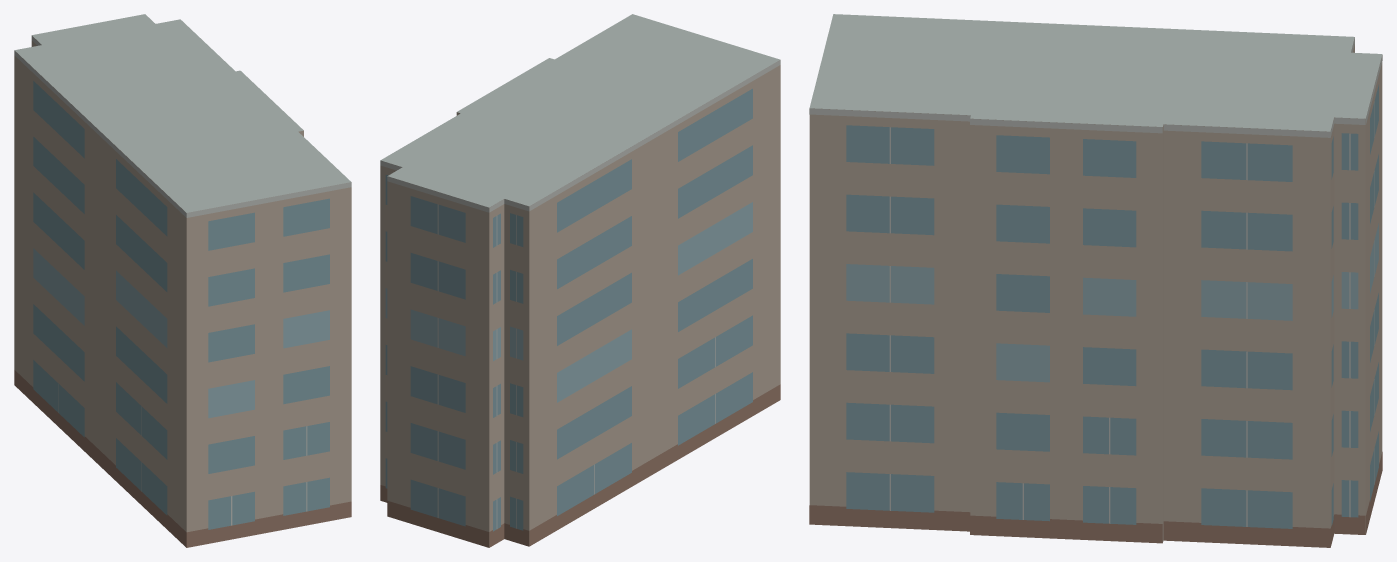
File: survey-upis-32567222.glb
The picture shows the model from 3 angles, left to right: view 1: azimuth 30°, elevation 25°; view 2: azimuth 150°, elevation 25°; view 3: azimuth 270°, elevation 25°; orthographic projection. The views are drawn at different scales.
Parts seen in each view (by area): view 1: survey-upis-32567222.tmp; view 2: survey-upis-32567222.tmp; view 3: survey-upis-32567222.tmp.
Boxes of the visible parts, x1=… form: survey-upis-32567222.tmp: x1=14, y1=14, x2=351, y2=547; survey-upis-32567222.tmp: x1=380, y1=14, x2=780, y2=547; survey-upis-32567222.tmp: x1=809, y1=14, x2=1382, y2=547.
Bounding box in the file's own units: 9.77 × 16.1 × 20.1.
